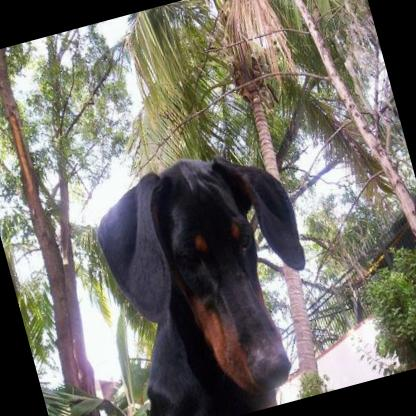Doberman: (81, 133, 339, 416)
